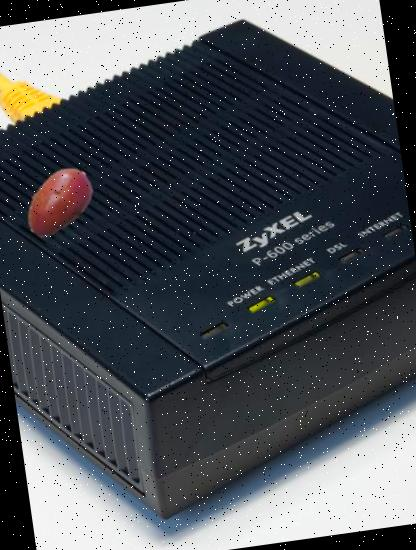Potato: (14, 158, 104, 247)
